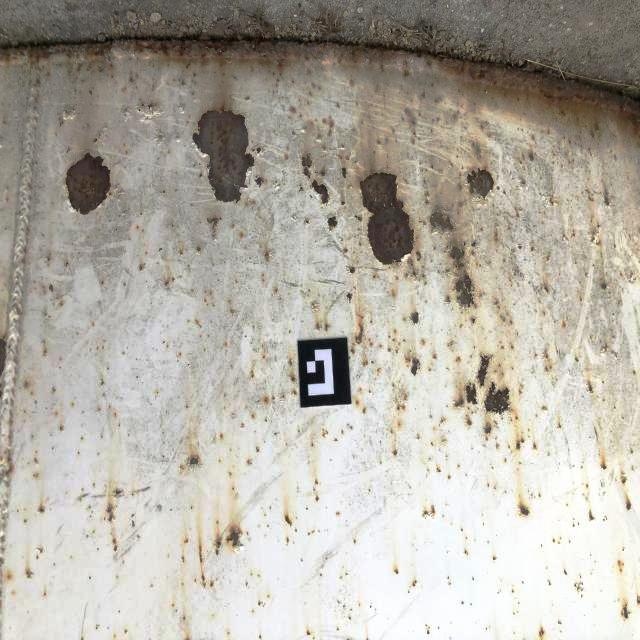Corrosion: (0, 39, 640, 147), (191, 103, 256, 205), (357, 165, 419, 269), (65, 148, 112, 217), (443, 239, 478, 310), (465, 166, 495, 205), (484, 379, 513, 417), (428, 204, 458, 238), (310, 170, 331, 210), (476, 353, 493, 389), (136, 98, 161, 121), (0, 333, 8, 401), (225, 525, 244, 550), (57, 105, 76, 129), (205, 216, 223, 241), (301, 152, 314, 181), (464, 381, 478, 406), (406, 355, 421, 377), (354, 324, 364, 347), (251, 143, 268, 156), (590, 228, 602, 246), (4, 456, 13, 478), (327, 216, 339, 232), (423, 506, 436, 520), (405, 109, 416, 125), (106, 504, 114, 524), (621, 602, 630, 619), (574, 583, 584, 598), (405, 268, 418, 279), (255, 175, 265, 189), (410, 311, 419, 326), (472, 143, 481, 158), (519, 505, 530, 517), (93, 130, 102, 144), (21, 245, 27, 265), (453, 398, 465, 408), (516, 438, 525, 451), (328, 120, 334, 138), (284, 515, 293, 527), (484, 424, 493, 436), (215, 540, 222, 555), (172, 78, 185, 86), (599, 279, 607, 291), (604, 191, 610, 207), (414, 250, 422, 262), (341, 167, 348, 180), (189, 456, 199, 465), (15, 306, 24, 316), (539, 625, 545, 640), (617, 560, 624, 572), (353, 214, 362, 223), (464, 418, 472, 428), (121, 106, 129, 116), (347, 266, 356, 274), (345, 292, 353, 301), (264, 251, 270, 263), (453, 110, 460, 120), (588, 512, 595, 522), (588, 383, 594, 394), (307, 529, 316, 536), (25, 570, 32, 579), (494, 301, 501, 310), (626, 501, 632, 511), (38, 506, 46, 513), (434, 97, 441, 105), (481, 120, 488, 128), (515, 207, 520, 218), (528, 152, 534, 161), (445, 296, 451, 305), (157, 134, 163, 143), (48, 284, 54, 293), (25, 227, 30, 237), (604, 342, 609, 352), (65, 147, 72, 154), (115, 488, 122, 495), (164, 279, 170, 287), (128, 75, 134, 83), (34, 79, 40, 87), (457, 184, 463, 192), (312, 302, 318, 310), (324, 323, 329, 332), (544, 285, 549, 294), (195, 246, 202, 252), (290, 376, 296, 383), (621, 478, 627, 485), (350, 347, 355, 355), (544, 351, 549, 359), (290, 107, 296, 113), (494, 232, 498, 241), (601, 464, 607, 470), (470, 242, 477, 247), (299, 186, 304, 193), (23, 382, 28, 389), (637, 595, 640, 606), (316, 322, 320, 330), (550, 198, 554, 206), (201, 576, 205, 584), (341, 200, 346, 206), (304, 219, 310, 224), (139, 265, 144, 271), (192, 72, 197, 78), (244, 96, 250, 101), (363, 361, 368, 367), (87, 90, 93, 95), (532, 443, 537, 449), (455, 357, 461, 362), (521, 179, 526, 185), (458, 202, 463, 208), (247, 460, 253, 465), (472, 318, 476, 325), (7, 574, 11, 581), (421, 91, 425, 98), (404, 394, 408, 401), (568, 136, 572, 143), (590, 194, 594, 201), (252, 370, 255, 379), (46, 71, 51, 76), (436, 468, 441, 473), (394, 570, 399, 575), (336, 512, 341, 517), (401, 406, 406, 411), (58, 426, 63, 431), (421, 273, 425, 279), (377, 140, 381, 146), (289, 360, 293, 366), (28, 183, 32, 189), (18, 210, 22, 216), (2, 120, 8, 124), (65, 262, 69, 268), (114, 545, 118, 551), (112, 539, 116, 545), (545, 367, 549, 373), (558, 423, 562, 429), (558, 619, 562, 625), (215, 550, 219, 556), (413, 582, 417, 588), (394, 450, 398, 456), (194, 320, 198, 326), (554, 538, 558, 544), (412, 138, 416, 144), (29, 79, 32, 86), (564, 569, 567, 576), (181, 558, 184, 565), (286, 538, 289, 545), (293, 391, 297, 396), (264, 398, 268, 403), (47, 256, 51, 261), (433, 354, 437, 359), (575, 357, 579, 362), (518, 244, 522, 249), (425, 192, 429, 197), (42, 350, 46, 355), (598, 224, 602, 229), (363, 408, 366, 414), (355, 400, 358, 406), (563, 322, 566, 328), (548, 128, 551, 134), (372, 275, 376, 279), (344, 249, 348, 253), (162, 190, 166, 194), (360, 315, 364, 319), (492, 557, 496, 561), (496, 186, 500, 190), (520, 390, 524, 394), (172, 276, 175, 281), (199, 173, 202, 178), (40, 548, 43, 553), (485, 437, 488, 442), (307, 632, 310, 637), (256, 448, 259, 453), (51, 388, 54, 393), (532, 246, 535, 251), (180, 251, 183, 255), (413, 132, 416, 136), (388, 348, 391, 352), (101, 281, 104, 285), (503, 191, 506, 195), (210, 584, 213, 588), (316, 498, 319, 502), (184, 638, 190, 640), (431, 164, 434, 168), (515, 417, 518, 420), (573, 233, 575, 237), (631, 450, 633, 454), (514, 273, 516, 276), (459, 174, 461, 177), (481, 228, 483, 231), (580, 298, 582, 301), (503, 319, 505, 322), (563, 235, 565, 237)
